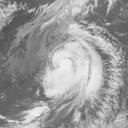cyclone: (39, 32, 110, 102)
